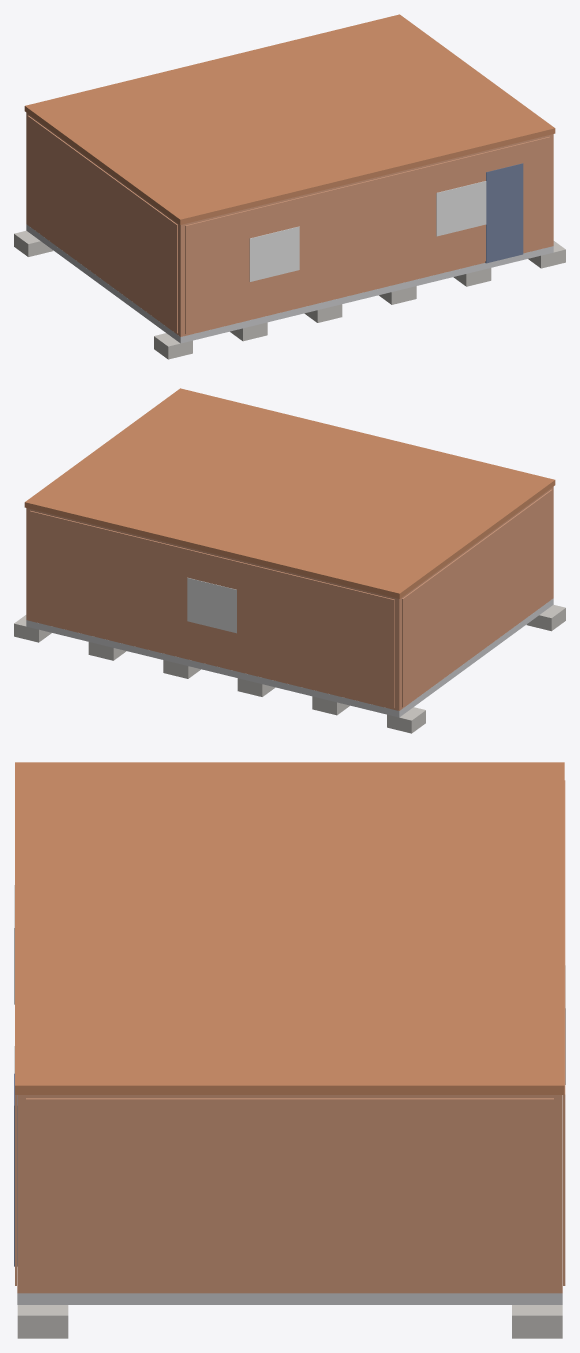
The model's file is Studio-30-Base-Terracotta-LOD3.glb.
3 views of the same model, one above another, from view 1: azimuth 30°, elevation 25°; view 2: azimuth 150°, elevation 25°; view 3: azimuth 270°, elevation 25° (orthographic). The views are drawn at different scales.
Visible parts, largest first — view 1: RoofMain, ExteriorPanelsStandard, WindowsStandard, BaseFrame, FoundationBlocks, ExteriorShell, EntryDoor; view 2: RoofMain, ExteriorPanelsStandard, BaseFrame, ExteriorShell, FoundationBlocks, WindowsStandard; view 3: RoofMain, ExteriorPanelsStandard, ExteriorShell, BaseFrame, FoundationBlocks.
Part boxes in pixels (x1,y1,x2,y2): RoofMain: (24,14,555,224); ExteriorPanelsStandard: (27,115,549,334); WindowsStandard: (249,181,486,281); BaseFrame: (26,224,553,343); FoundationBlocks: (14,230,565,359); ExteriorShell: (26,112,553,336); EntryDoor: (485,163,523,263); RoofMain: (24,388,555,598); ExteriorPanelsStandard: (30,489,552,708); BaseFrame: (26,598,553,717); ExteriorShell: (26,486,553,710); FoundationBlocks: (14,604,565,733); WindowsStandard: (187,577,236,633); RoofMain: (15,762,564,1094); ExteriorPanelsStandard: (15,780,565,1290); ExteriorShell: (17,1095,562,1293); BaseFrame: (17,1293,562,1304); FoundationBlocks: (17,1305,562,1338).
Bounding box in the file's own units: 9.6 × 3.17 × 6.53.
